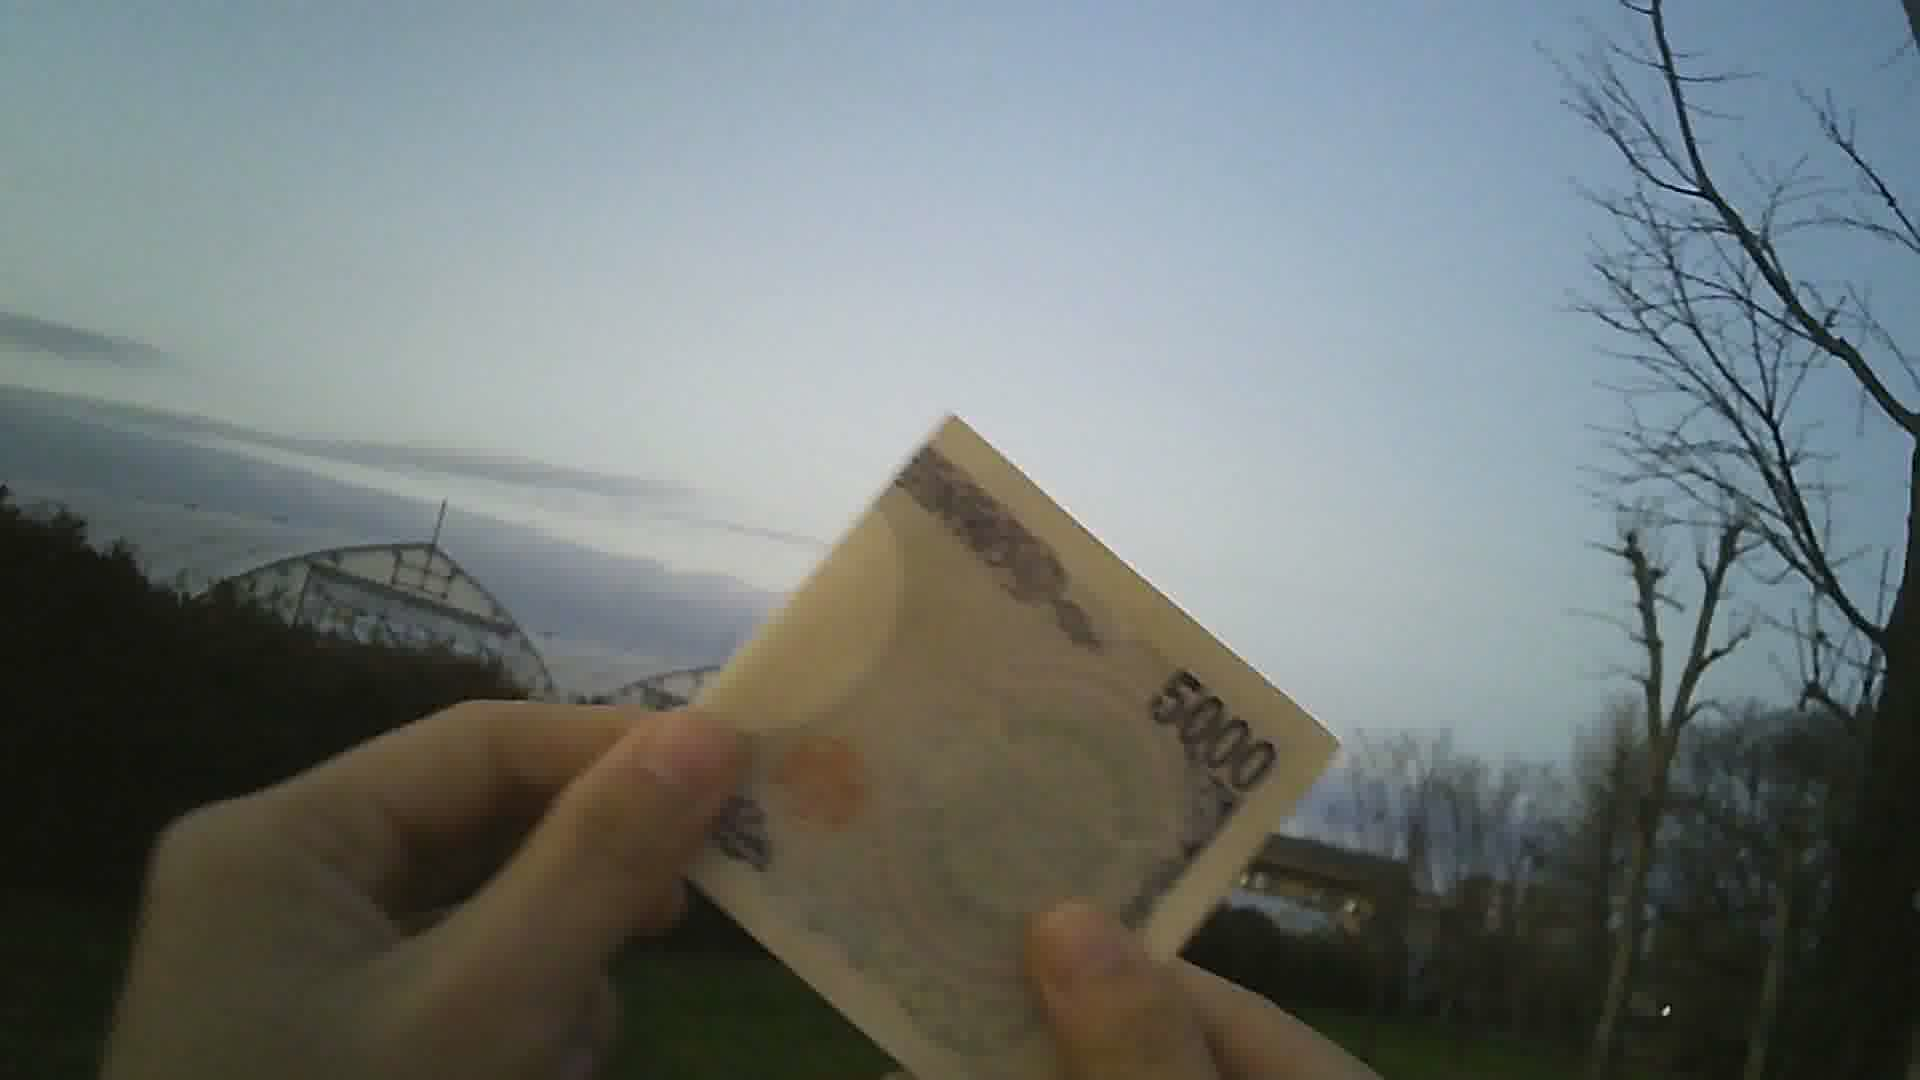5,000 Yen: (647, 409, 1342, 1067)
